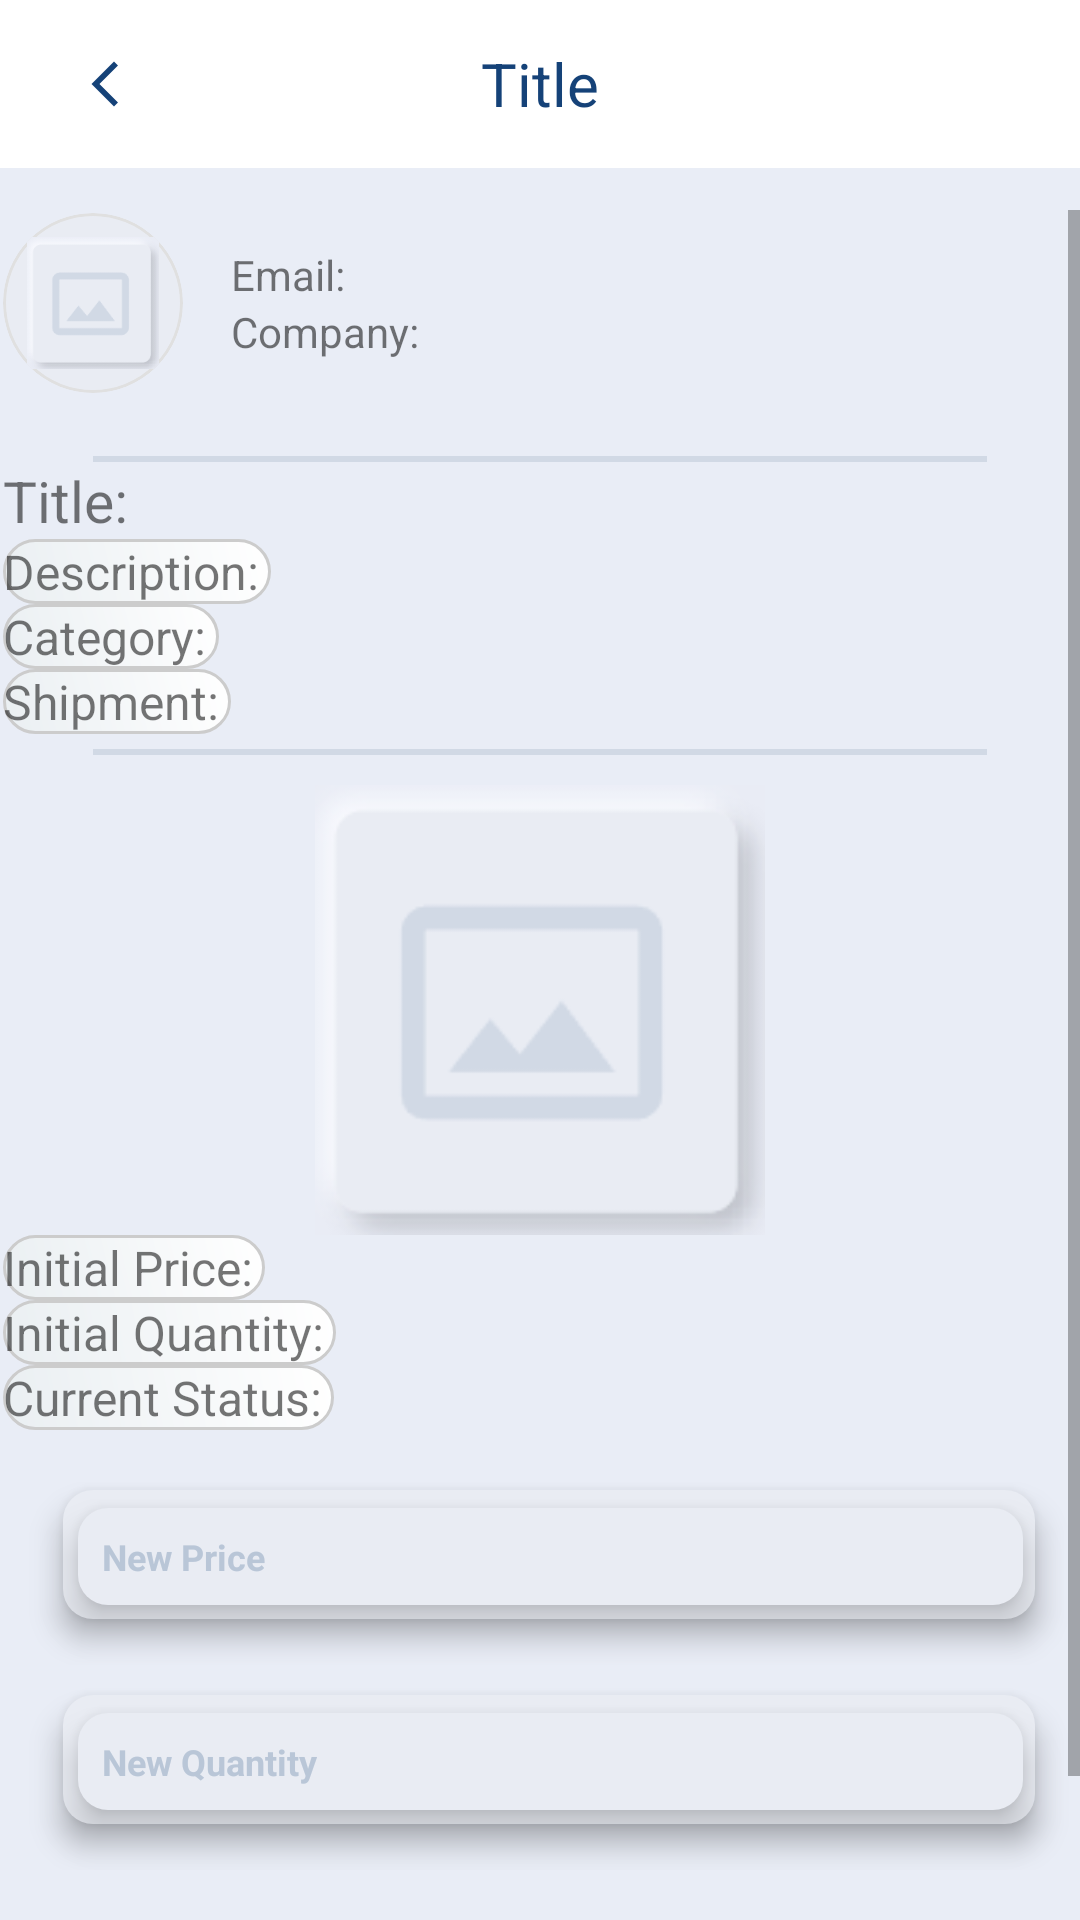

Icons on this 1080 x 1920 Android screen, each with the point to tap as point (x, y):
Back Button: point (104, 84)
